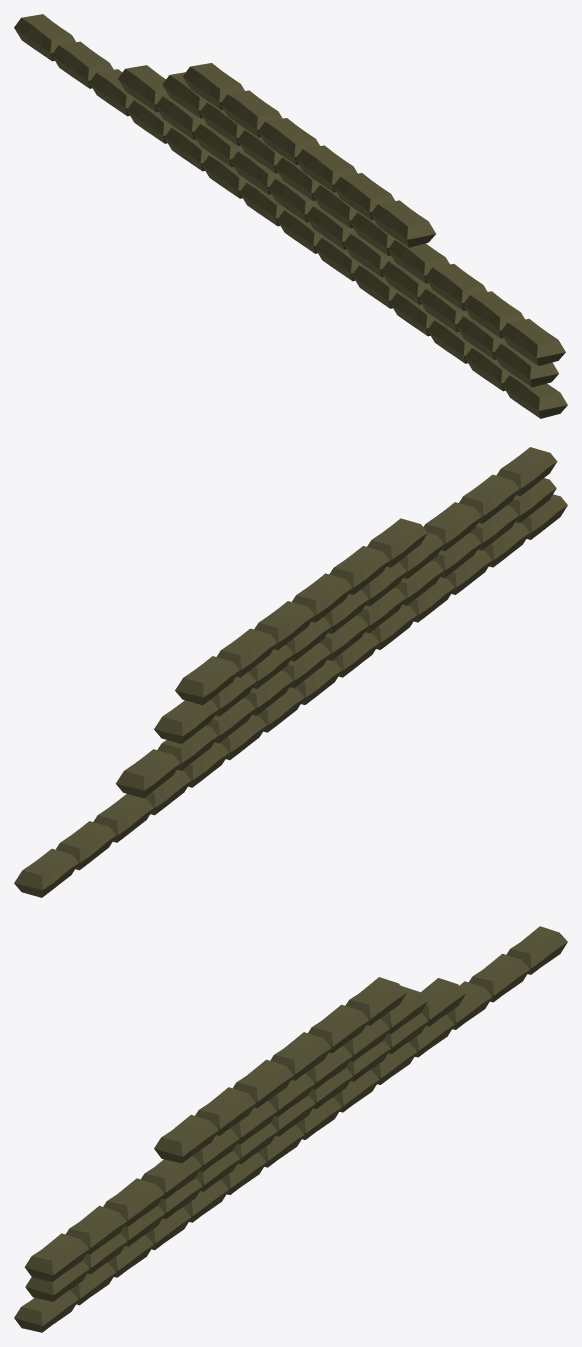
File: Barricade_1.obj
The picture shows the model from 3 angles, top to bottom: view 1: azimuth 30°, elevation 25°; view 2: azimuth 150°, elevation 25°; view 3: azimuth 330°, elevation 25°; orthographic projection.
Visible parts, largest first — view 1: Cube.126_Cube.127; view 2: Cube.126_Cube.127; view 3: Cube.126_Cube.127.
Boxes of the visible parts, box(x1,y1,x2,y2) form: Cube.126_Cube.127: box(14, 14, 567, 418); Cube.126_Cube.127: box(14, 447, 567, 897); Cube.126_Cube.127: box(14, 926, 567, 1332).
Bounding box in the file's own units: 0.2739 × 0.7253 × 7.4.
